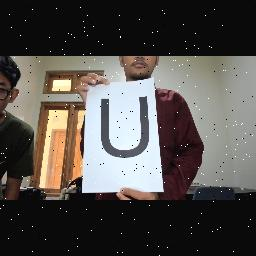u: (97, 95, 153, 159)
